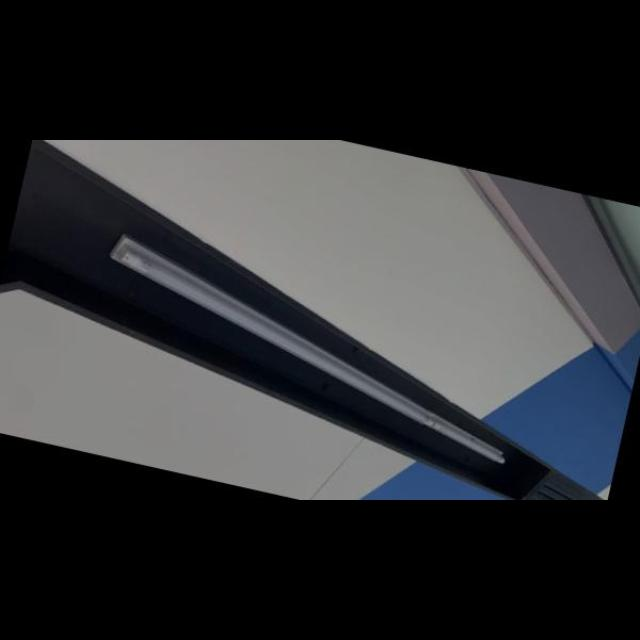Straight-Tube-Fluorescent-Lamp: (71, 204, 551, 478)
